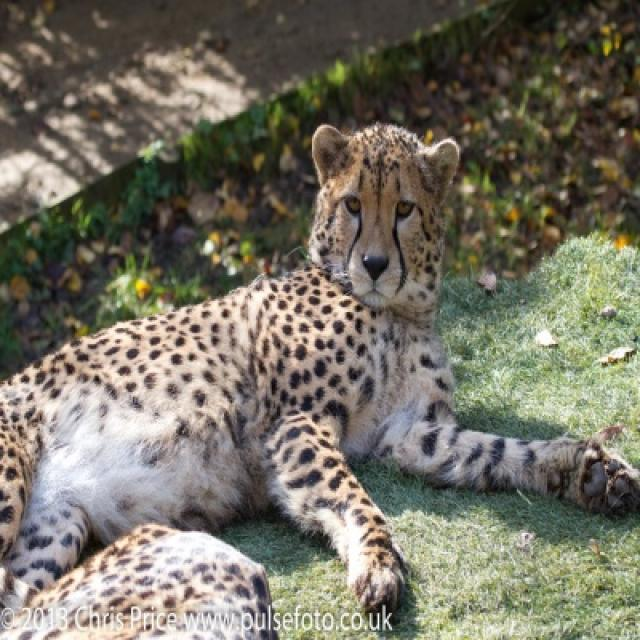Cheetah: (0, 125, 638, 638)
